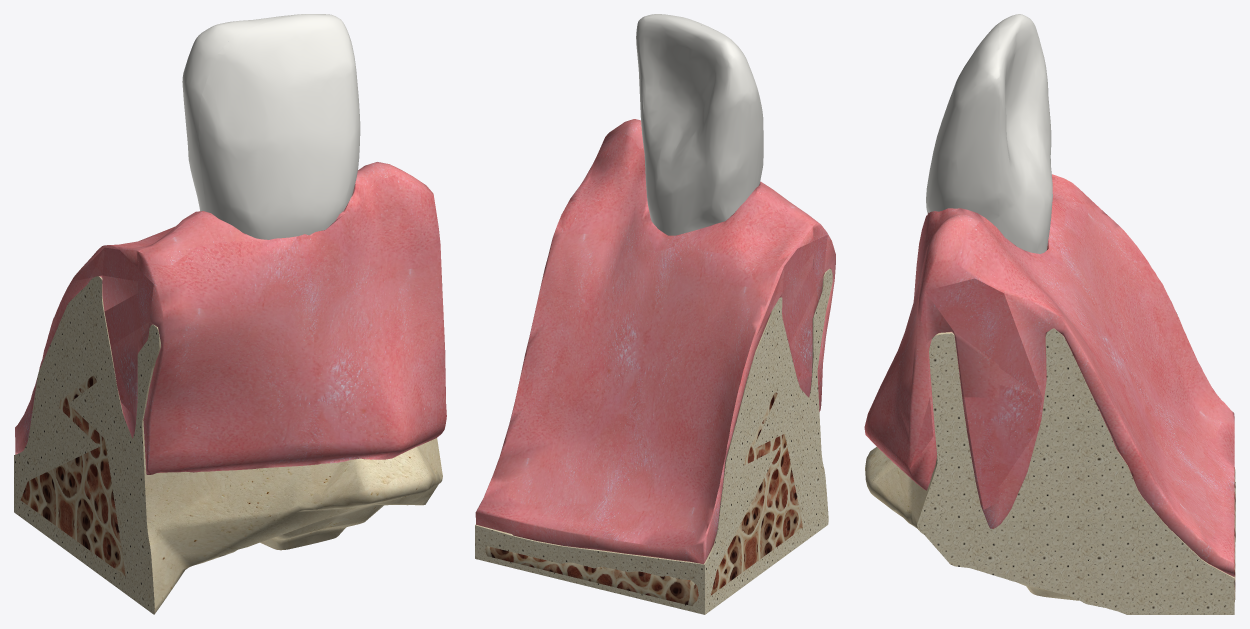
3 renders of one model, left to right at view 1: azimuth 30°, elevation 25°; view 2: azimuth 150°, elevation 25°; view 3: azimuth 270°, elevation 25°, orthographic. The views are drawn at different scales.
Parts seen in each view (by area): view 1: gingiva_b, schmelz_b, kompakta_b, kompakta_a, spongiosa_a, gingiva_a, schmelz_a; view 2: gingiva_a, schmelz_a, kompakta_a, spongiosa_a, gingiva_b, kompakta_b, schmelz_b; view 3: gingiva_a, kompakta_a, gingiva_b, kompakta_b, schmelz_a, schmelz_b.
Part boxes in pixels (x1=…): gingiva_b: x1=138, y1=162, x2=446, y2=474; schmelz_b: x1=198, y1=14, x2=360, y2=239; kompakta_b: x1=138, y1=324, x2=442, y2=614; kompakta_a: x1=14, y1=276, x2=384, y2=602; spongiosa_a: x1=21, y1=374, x2=125, y2=576; gingiva_a: x1=15, y1=211, x2=205, y2=454; schmelz_a: x1=182, y1=14, x2=305, y2=211; gingiva_a: x1=475, y1=165, x2=813, y2=564; schmelz_a: x1=636, y1=17, x2=760, y2=235; kompakta_a: x1=475, y1=297, x2=813, y2=614; spongiosa_a: x1=485, y1=389, x2=802, y2=606; gingiva_b: x1=585, y1=119, x2=835, y2=411; kompakta_b: x1=813, y1=268, x2=832, y2=534; schmelz_b: x1=637, y1=14, x2=763, y2=191; gingiva_a: x1=999, y1=174, x2=1234, y2=576; kompakta_a: x1=999, y1=328, x2=1234, y2=614; gingiva_b: x1=864, y1=208, x2=999, y2=528; kompakta_b: x1=865, y1=332, x2=999, y2=576; schmelz_a: x1=999, y1=14, x2=1052, y2=253; schmelz_b: x1=926, y1=23, x2=999, y2=229.
Bounding box in the file's own units: 0.0158 × 0.0317 × 0.0204.
Materials: 21 (8 with a texture image).
